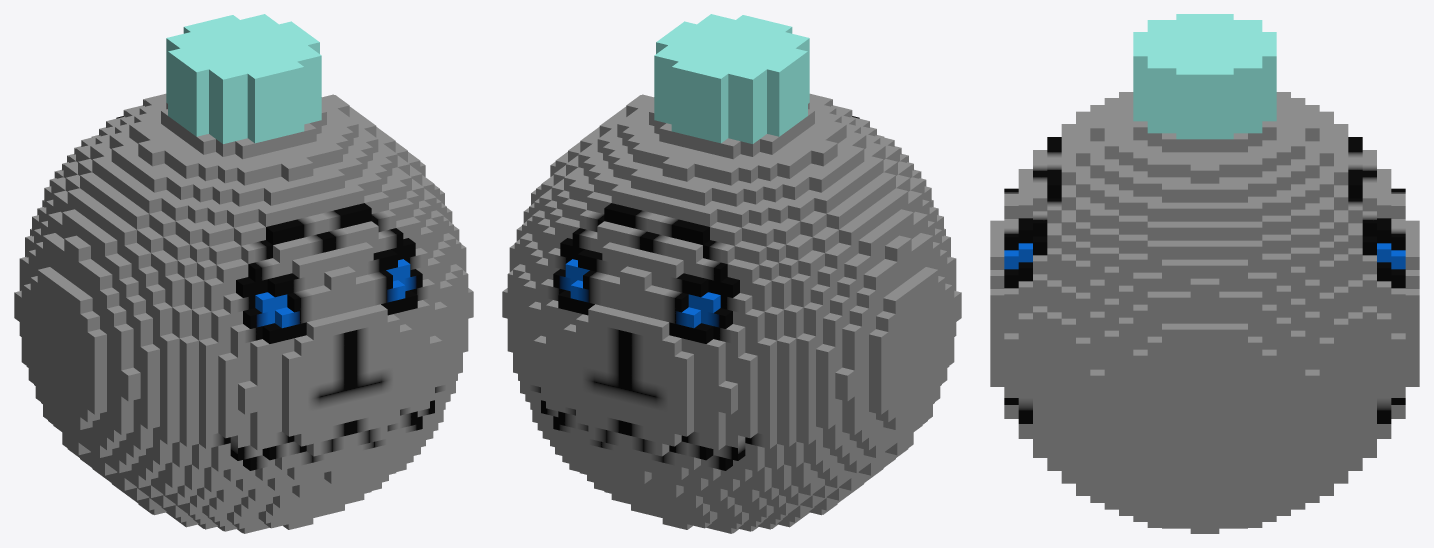
The model's file is Character_15.fbx.
3 renders of one model, left to right at view 1: azimuth 30°, elevation 25°; view 2: azimuth 150°, elevation 25°; view 3: azimuth 270°, elevation 25°, orthographic.
Visible parts, largest first — view 1: Character_15; view 2: Character_15; view 3: Character_15.
Part boxes in pixels (left/top/right/bottom): Character_15: left=14, top=14, right=473, bottom=533; Character_15: left=502, top=14, right=961, bottom=533; Character_15: left=990, top=14, right=1419, bottom=533.
Bounding box in the file's own units: 30 × 35 × 30.
1 material, 1 textured.
